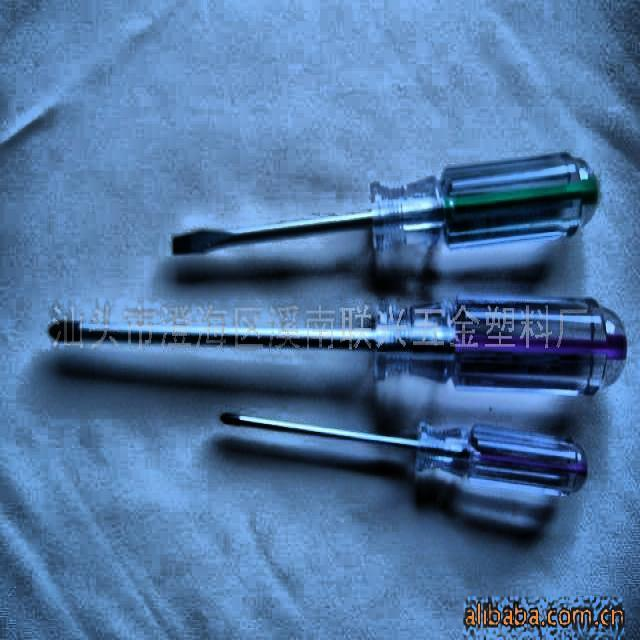screwdriver: (47, 297, 628, 395), (173, 150, 599, 254), (222, 410, 590, 500)
